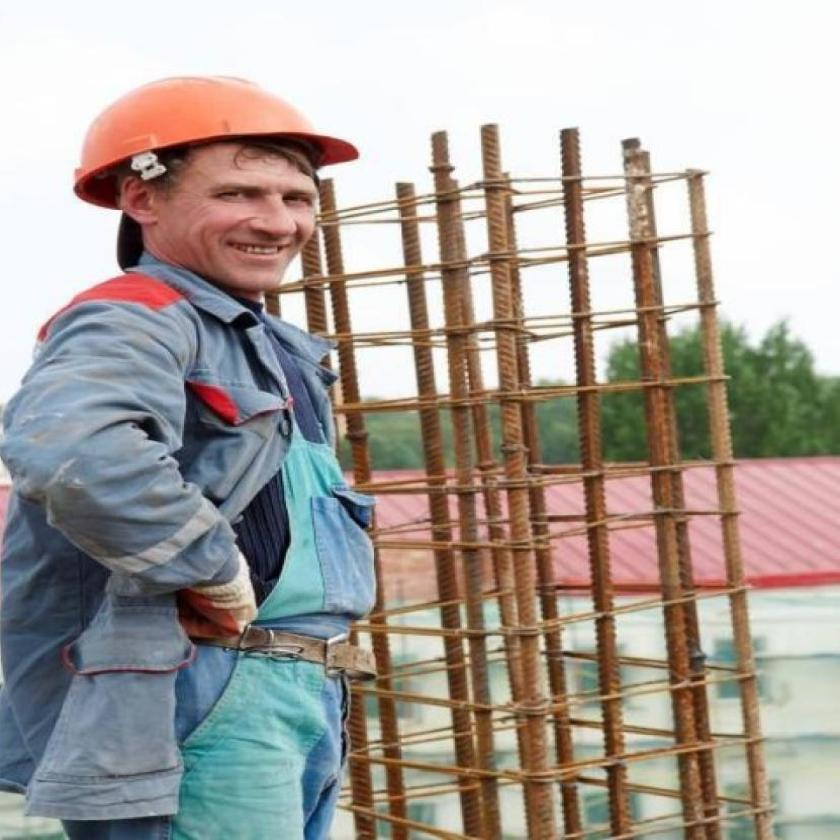Con_casco: (69, 63, 366, 305)
